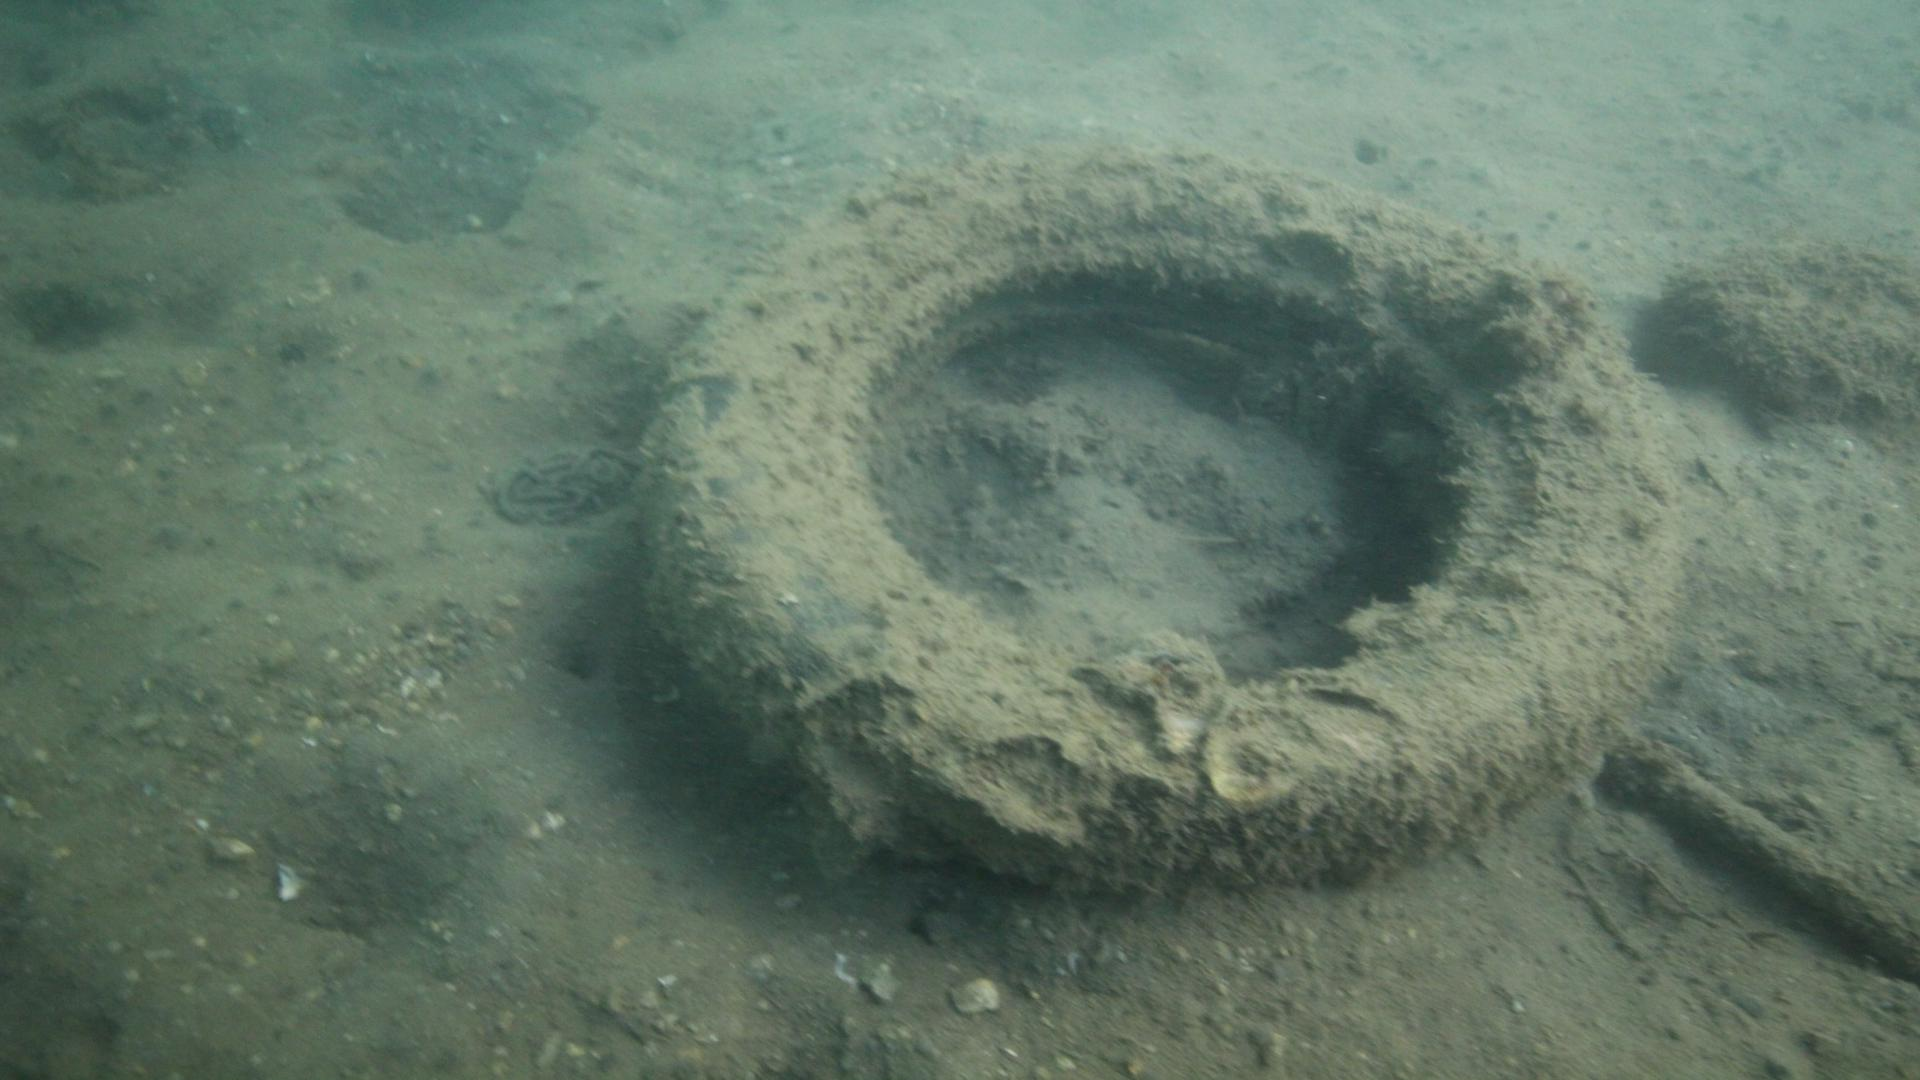tire: (636, 145, 1669, 901)
